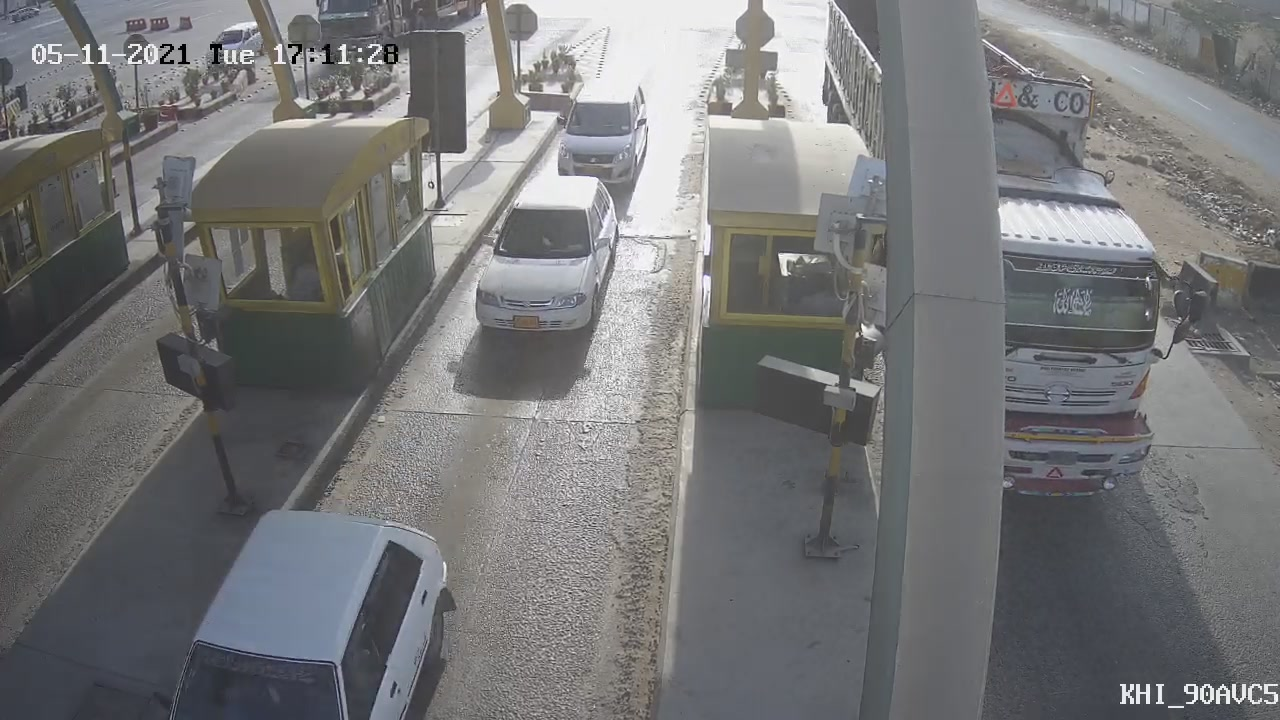F1: (453, 162, 638, 352), (537, 61, 664, 209)
